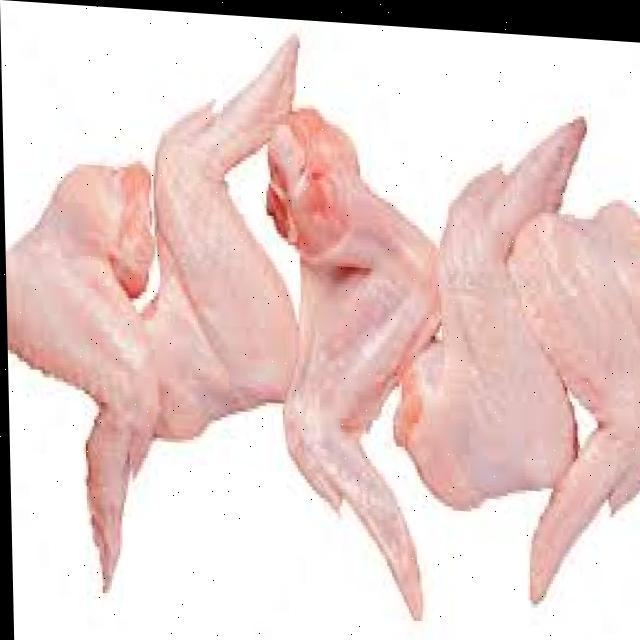wing: (253, 93, 433, 640), (122, 20, 304, 472), (2, 128, 164, 610), (397, 116, 571, 498), (517, 192, 640, 594)
